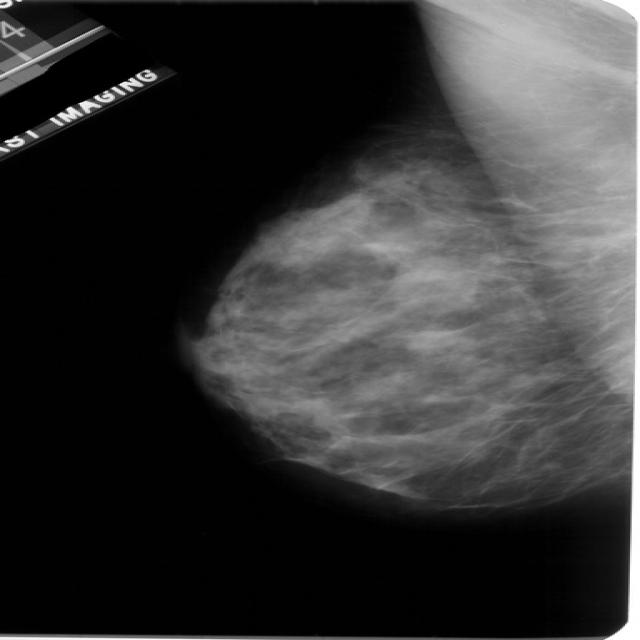tumour: (388, 256, 478, 316)
